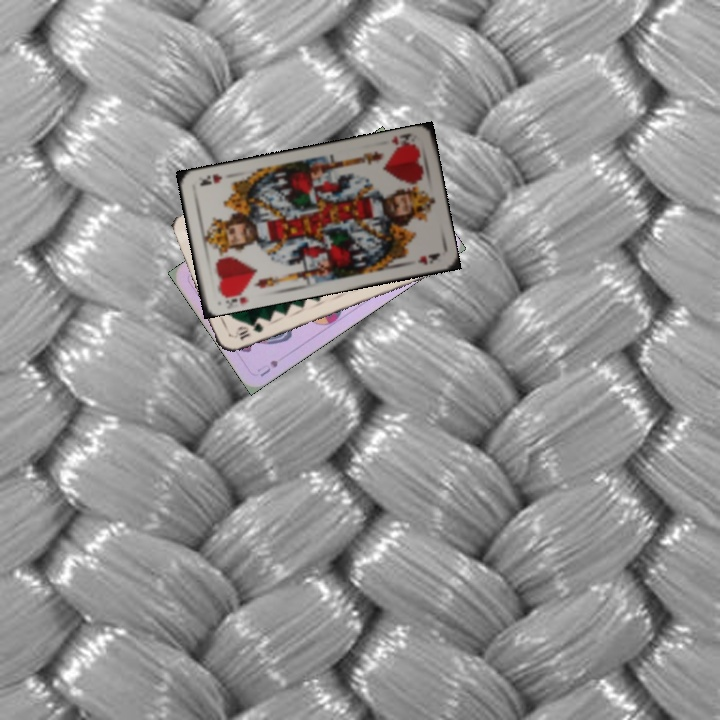G10: (229, 318, 266, 342)
HK: (217, 285, 251, 309), (387, 130, 419, 153)
SU: (253, 356, 281, 379)
